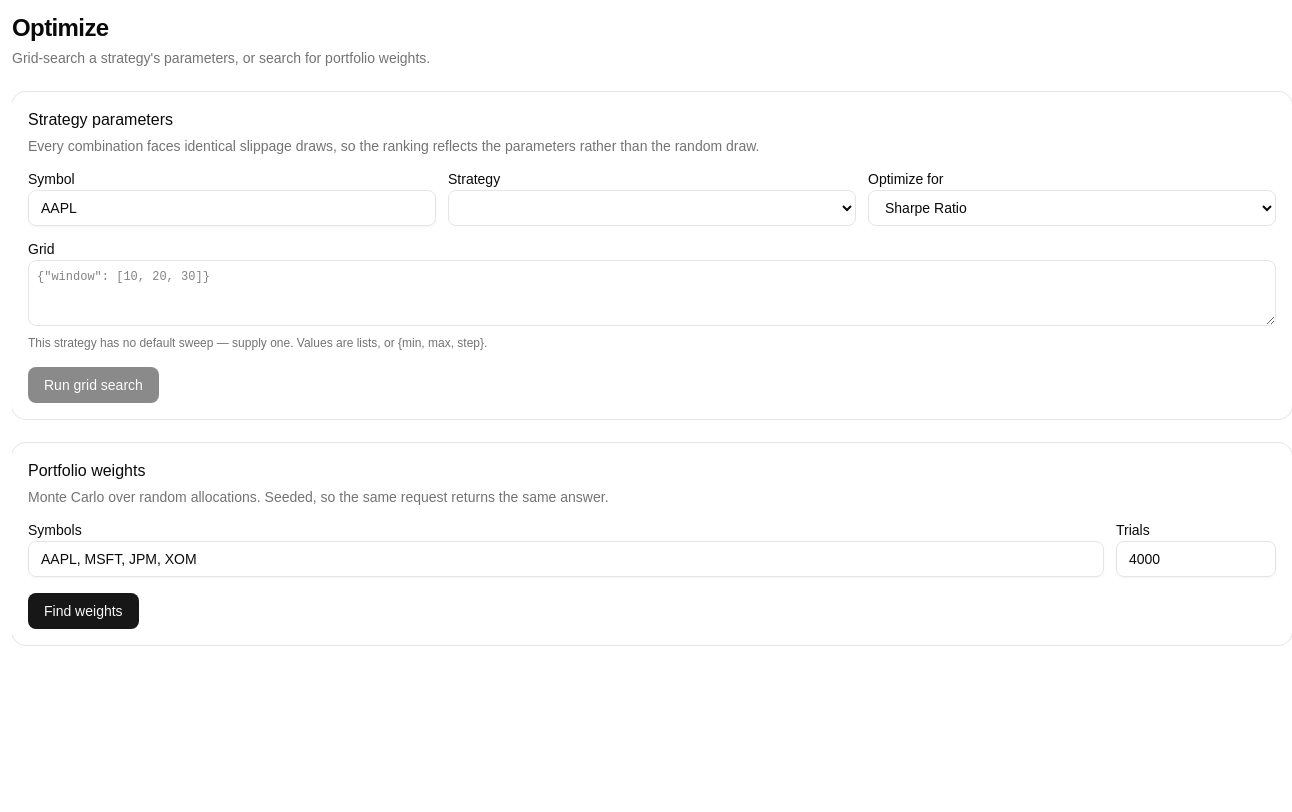
OptimizePage — grid search › blocks a run on malformed grid JSON rather than sending it
The width and height of the screenshot is (1292, 812).
Type "not json" into the text box labelled "Grid".
click(652, 293); type("not json")  # box 28,260 -> 1276,326
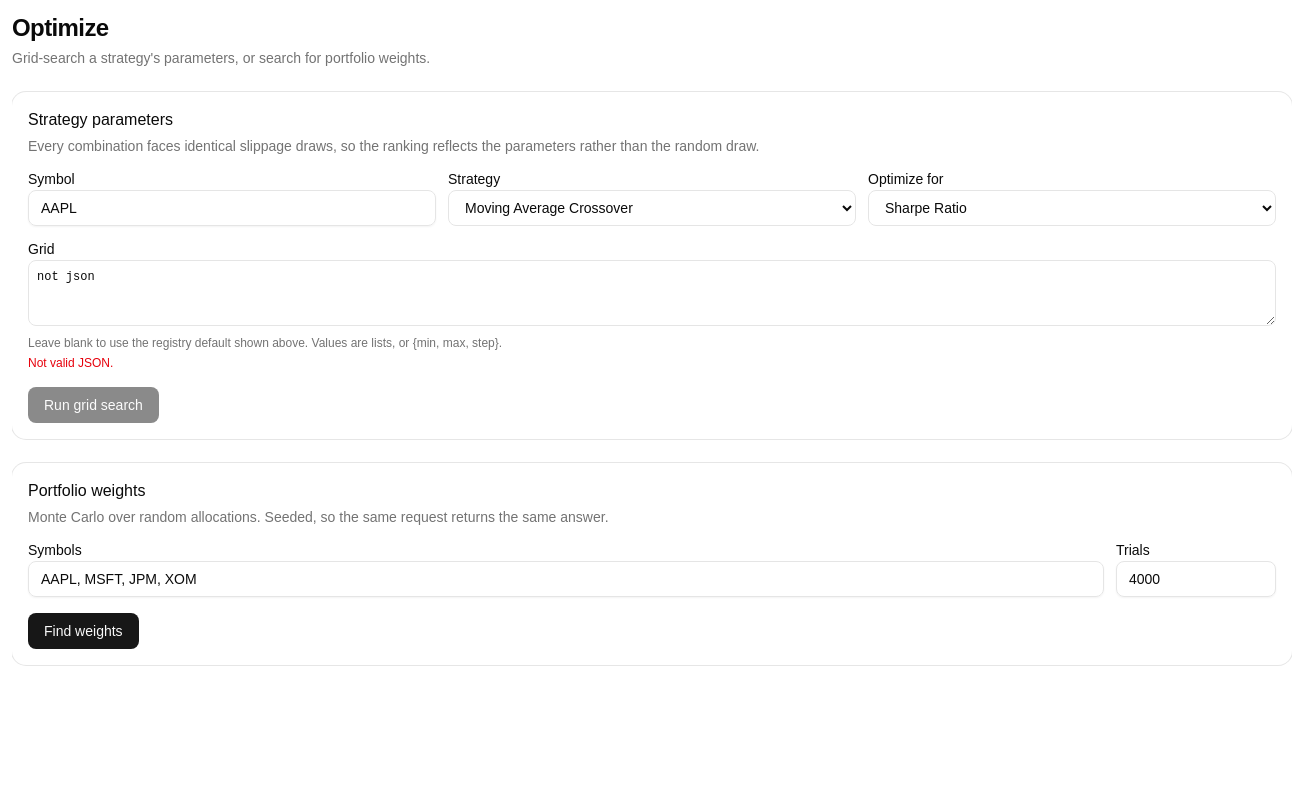
Expected: the button "Run grid search" is disabled, 28,387 -> 159,423
Now the text "Not valid JSON." is shown, box 28,356 -> 113,370
